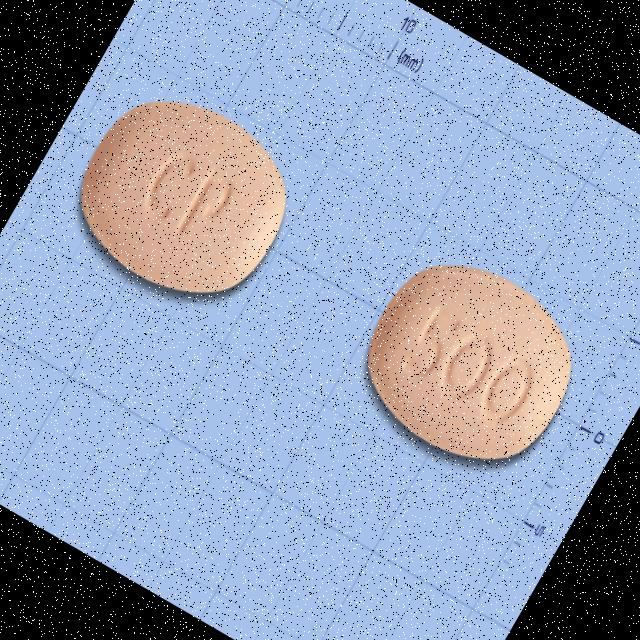Refloxin Tab- -For Export-: (337, 233, 603, 492), (52, 69, 316, 327)
